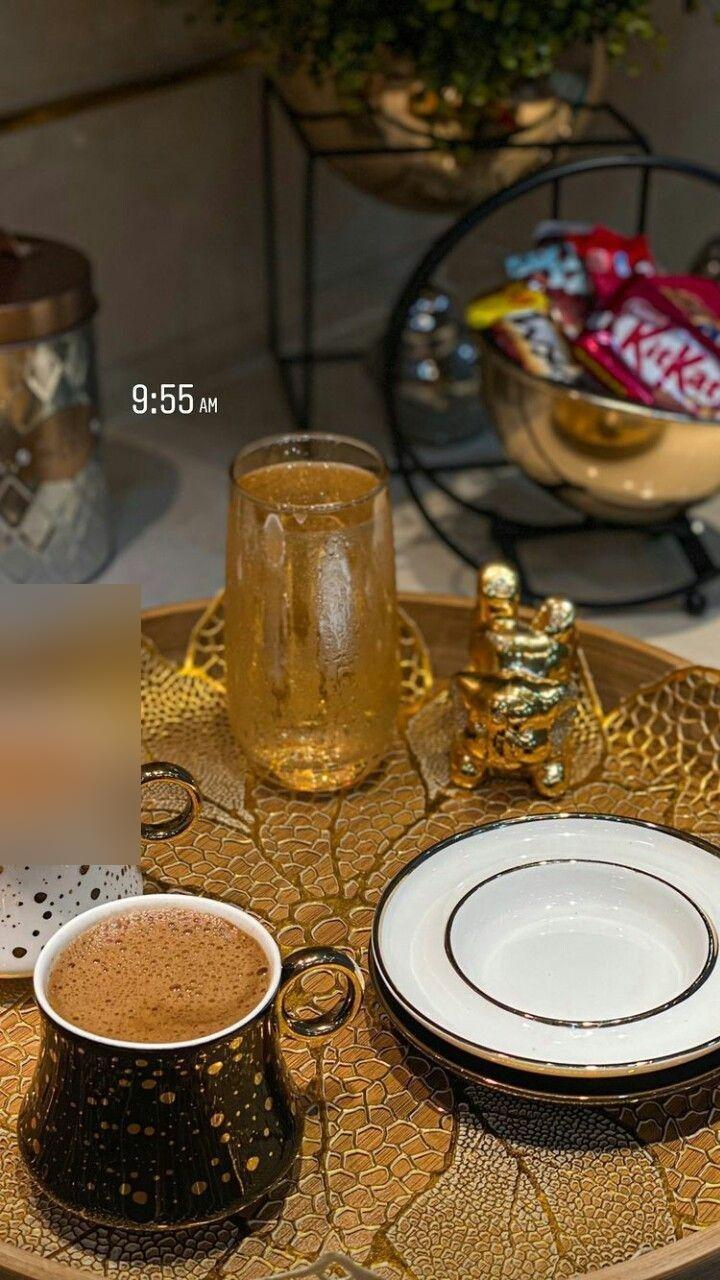cup-handle: (18, 891, 368, 1238)
glass-normal: (222, 428, 405, 796)
